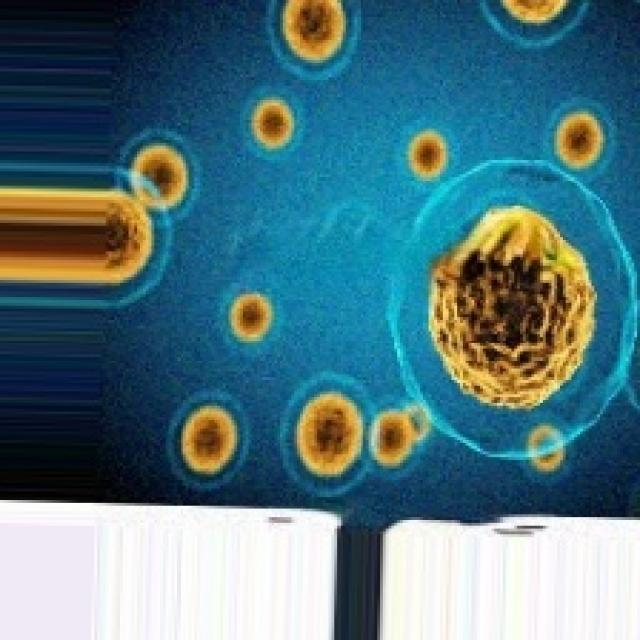Spherical_bacteria: (97, 0, 637, 500), (426, 203, 597, 408)
